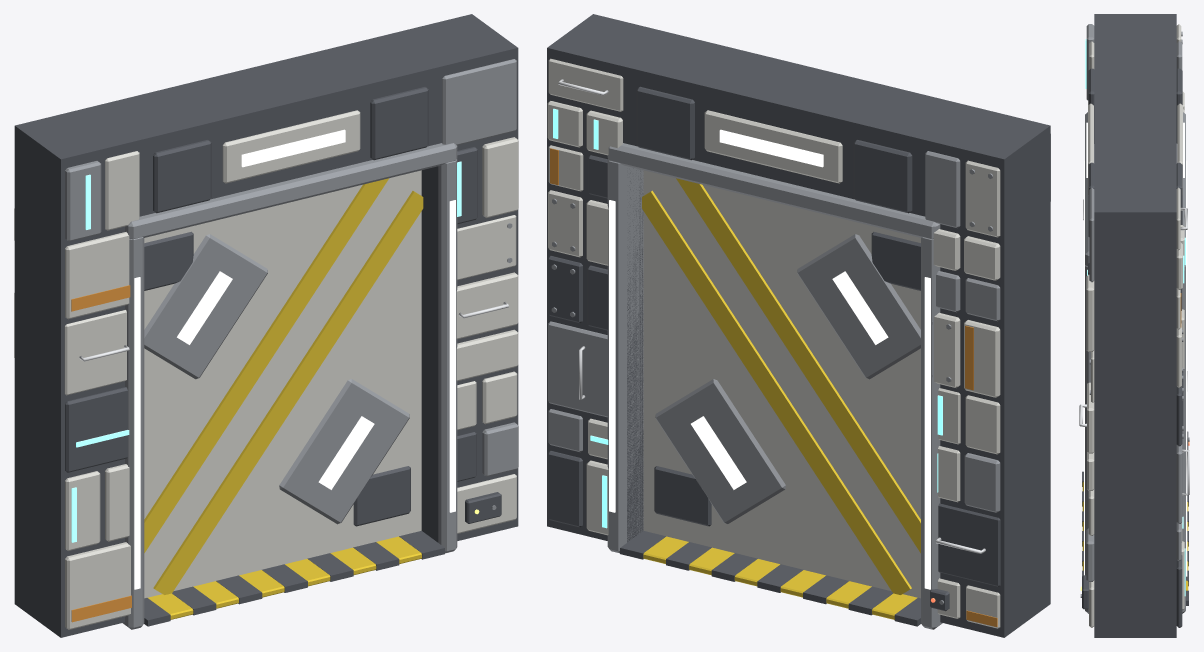
The model's file is door_shear.glb.
3 views of the same model, side by side, from view 1: azimuth 30°, elevation 25°; view 2: azimuth 150°, elevation 25°; view 3: azimuth 270°, elevation 25° (orthographic). The views are drawn at different scales.
Parts seen in each view (by area): view 1: frame, shear_b, shear_a; view 2: frame, shear_b, shear_a; view 3: frame.
Part boxes in pixels (x1,y1,x2,y2): frame: (14,14,518,637); shear_b: (144,170,423,598); shear_a: (144,174,406,575); frame: (547,14,1050,637); shear_b: (642,170,920,598); shear_a: (659,174,920,575); frame: (1079,14,1189,637).
Size of the model in its own units: 4 by 4.05 by 0.9386.
